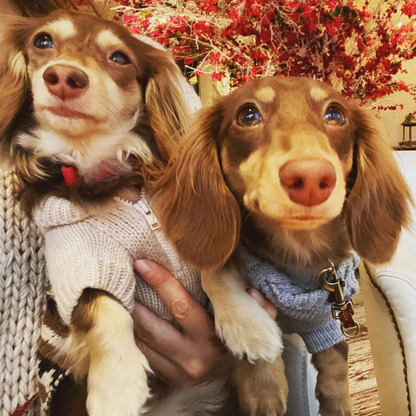dachshund: (159, 65, 402, 409), (15, 19, 182, 370)
